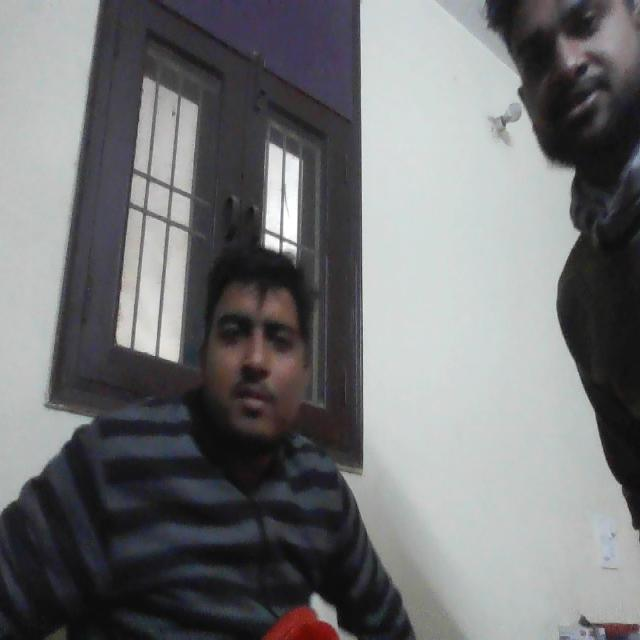real: (190, 211, 324, 464)
